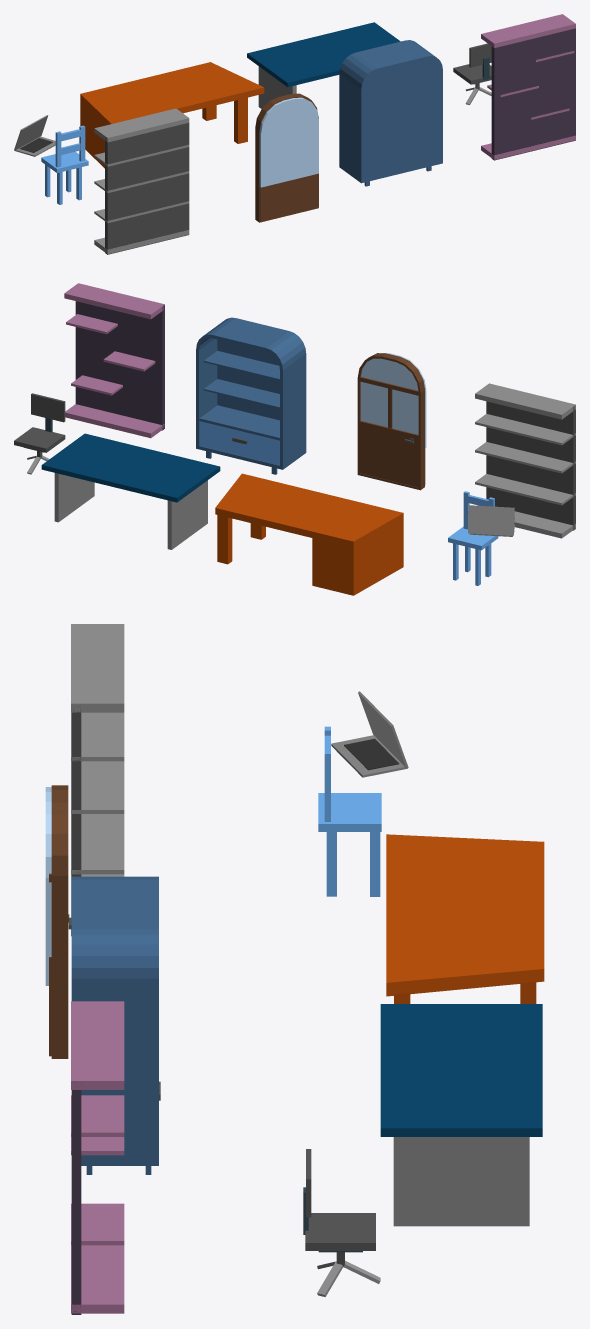
Rendered from Models.fbx.
The picture shows the model from 3 angles, top to bottom: view 1: azimuth 30°, elevation 25°; view 2: azimuth 150°, elevation 25°; view 3: azimuth 270°, elevation 25°; orthographic projection. The views are drawn at different scales.
Visible parts, largest first — view 1: Cube_1_3, Cube_1_4, Cube_1_5, stol_1, stol_2, Cube_13, Cube_11, stul_1, Cube_2_4, Cube_2_3, stul_2, Cube_1_2 (+6 smaller); view 2: stol_1, stol_2, Cube_1_3, Cube_1_4, Cube_1_5, Cube_13, Cube_11, Cube_4, stul_2, stul_1, Cube_1_2, Cube_2_4 (+13 smaller); view 3: stol_2, stol_1, Cube_1_3, Cube_1_2, Cube_2_3, Cube_2_4, stul_1, stul_2, Cube_3_3, Cube_4_3, Cube_5_3, Cube_1_4 (+9 smaller).
Part boxes in pixels (x1,y1,x2,y2): Cube_1_3: [339, 40, 442, 183]; Cube_1_4: [491, 28, 575, 160]; Cube_1_5: [105, 123, 189, 254]; stol_1: [80, 62, 264, 168]; stol_2: [247, 22, 400, 108]; Cube_13: [259, 97, 318, 187]; Cube_11: [260, 173, 318, 221]; stul_1: [41, 125, 88, 204]; Cube_2_4: [94, 108, 189, 142]; Cube_2_3: [481, 14, 575, 47]; stul_2: [453, 43, 491, 104]; Cube_1_2: [255, 93, 318, 222]; stol_1: [215, 473, 403, 595]; stol_2: [41, 433, 220, 549]; Cube_1_3: [196, 317, 306, 469]; Cube_1_4: [75, 301, 164, 430]; Cube_1_5: [486, 401, 575, 530]; Cube_13: [360, 353, 426, 448]; Cube_11: [359, 421, 425, 487]; Cube_4: [199, 421, 279, 465]; stul_2: [14, 393, 65, 474]; stul_1: [448, 491, 498, 585]; Cube_1_2: [357, 353, 424, 490]; Cube_2_4: [475, 383, 575, 419]; stol_2: [380, 1004, 542, 1226]; stol_1: [386, 834, 544, 1003]; Cube_1_3: [71, 876, 158, 1165]; Cube_1_2: [51, 785, 68, 1058]; Cube_2_3: [71, 1001, 124, 1089]; Cube_2_4: [71, 624, 124, 712]; stul_1: [318, 726, 381, 896]; stul_2: [303, 1149, 380, 1296]; Cube_3_3: [71, 1245, 124, 1313]; Cube_4_3: [71, 814, 124, 874]; Cube_5_3: [71, 761, 124, 813]; Cube_1_4: [71, 1090, 81, 1314].
Bounding box in the file's own units: 636 × 152 × 283.
